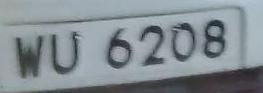0: (167, 18, 200, 65)
2: (136, 19, 169, 70)
6: (102, 22, 137, 72)
8: (198, 14, 228, 63)
U: (45, 29, 87, 79)
W: (9, 32, 49, 83)
